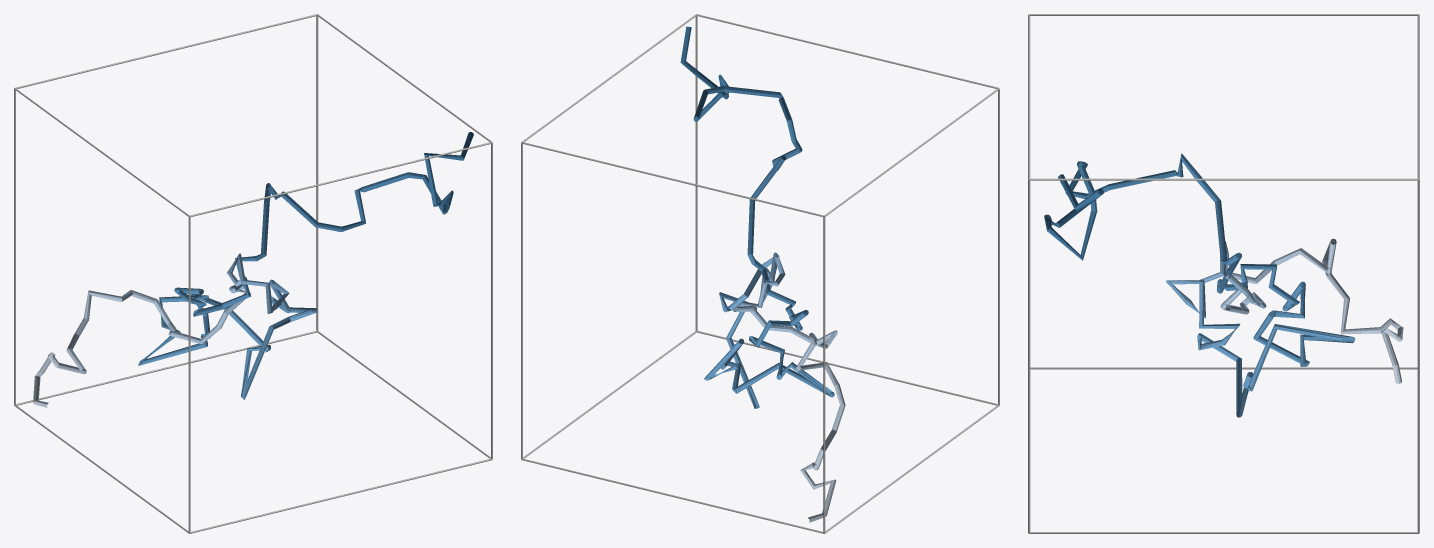
3 renders of one model, left to right at view 1: azimuth 30°, elevation 25°; view 2: azimuth 150°, elevation 25°; view 3: azimuth 270°, elevation 25°, orthographic. The views are drawn at different scales.
Visible parts, largest first — view 1: geometry_0, geometry_1; view 2: geometry_0, geometry_1; view 3: geometry_0, geometry_1.
Boxes of the visible parts, x1,y1,x2,y2 form: geometry_0: [33, 132, 473, 407]; geometry_1: [14, 14, 492, 533]; geometry_0: [680, 26, 845, 522]; geometry_1: [521, 14, 999, 533]; geometry_0: [1044, 153, 1403, 417]; geometry_1: [1028, 14, 1419, 533].
Size of the model in its own units: 0.3016 by 0.3033 by 0.3016.
